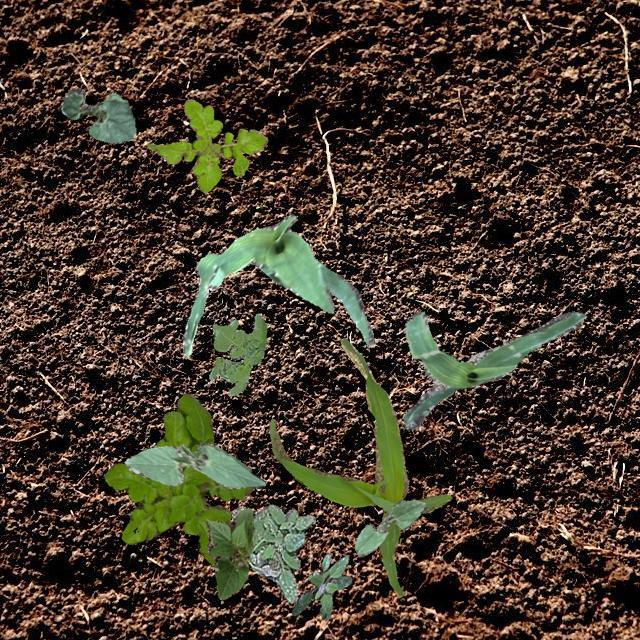crop: (268, 338, 450, 596), (182, 214, 372, 358), (402, 311, 584, 428), (123, 442, 264, 488), (205, 506, 252, 598), (354, 498, 426, 556), (61, 88, 136, 142)
weed: (104, 392, 252, 564), (146, 99, 266, 192), (230, 504, 314, 602), (208, 312, 266, 394), (290, 554, 350, 618)
